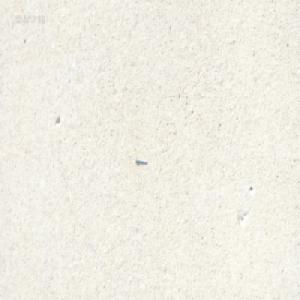Nail: (134, 156, 147, 163)
